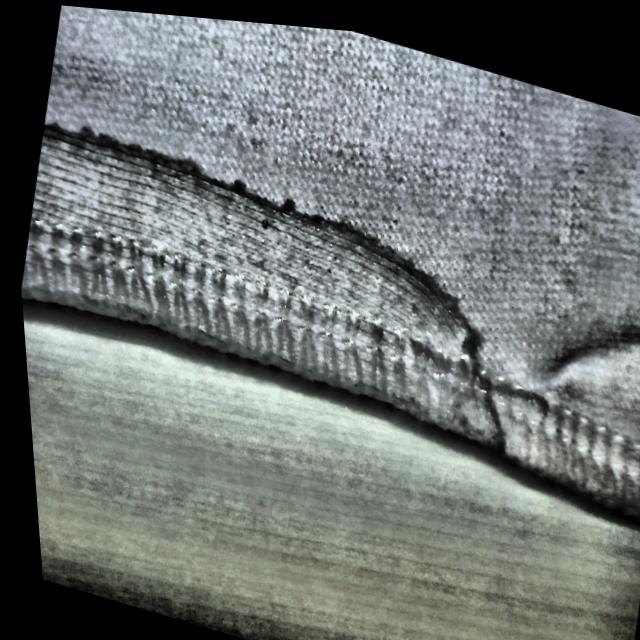seam: (0, 42, 541, 453)
